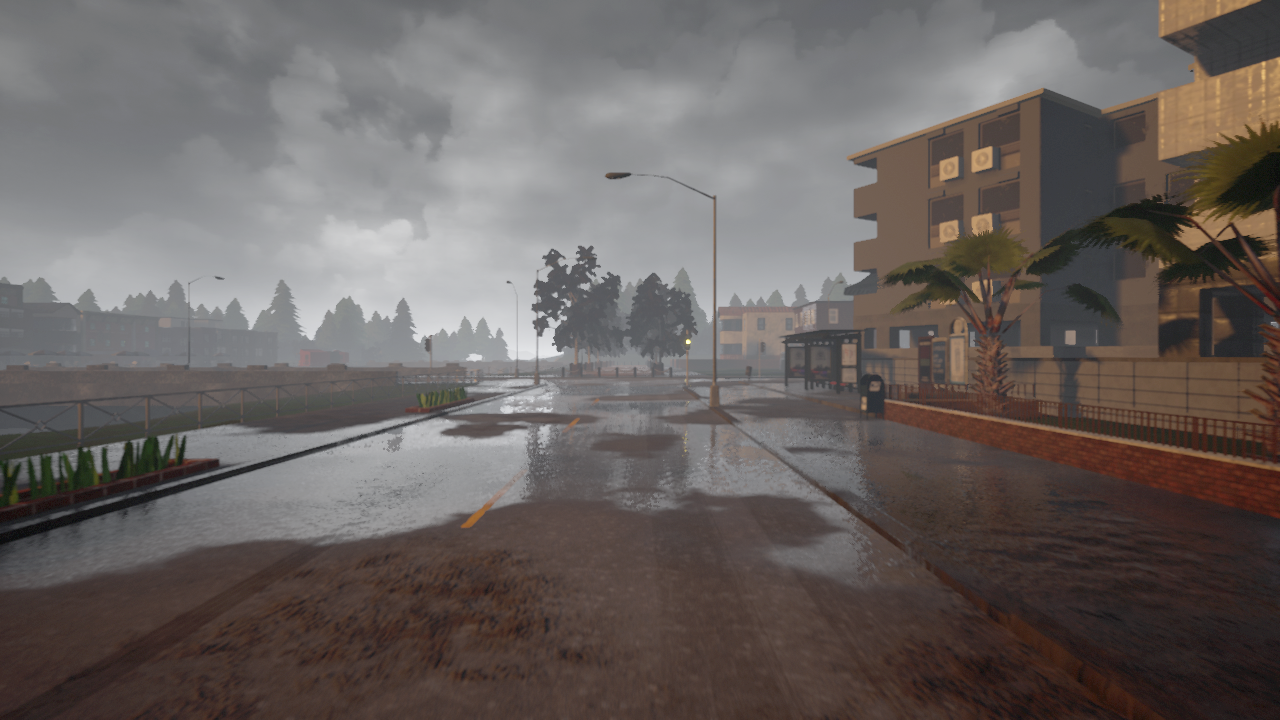yellow: (684, 334, 692, 350)
